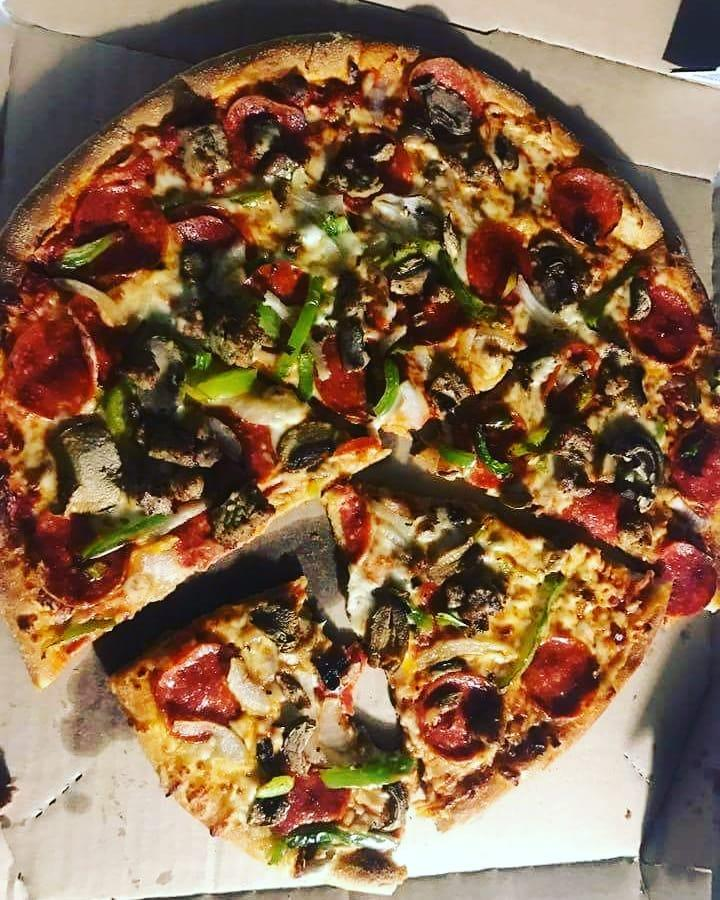Mushroom: (611, 431, 663, 513), (419, 75, 475, 138), (366, 599, 407, 670), (271, 719, 319, 774)
Pepperoni: (0, 305, 101, 421), (33, 509, 132, 609), (153, 641, 245, 741), (75, 186, 169, 273), (417, 675, 505, 761), (224, 96, 307, 180), (522, 637, 599, 721), (547, 167, 625, 244), (269, 774, 352, 839), (309, 335, 371, 422), (649, 540, 718, 616), (465, 224, 532, 301), (630, 286, 696, 362), (668, 425, 720, 504)
Peppers: (512, 376, 594, 461), (272, 275, 325, 378), (177, 363, 260, 405), (101, 383, 147, 447), (352, 750, 418, 791), (469, 423, 512, 476), (434, 246, 465, 313), (371, 358, 403, 419), (324, 214, 365, 255), (432, 436, 469, 471)
Pizza: (0, 35, 720, 868)
